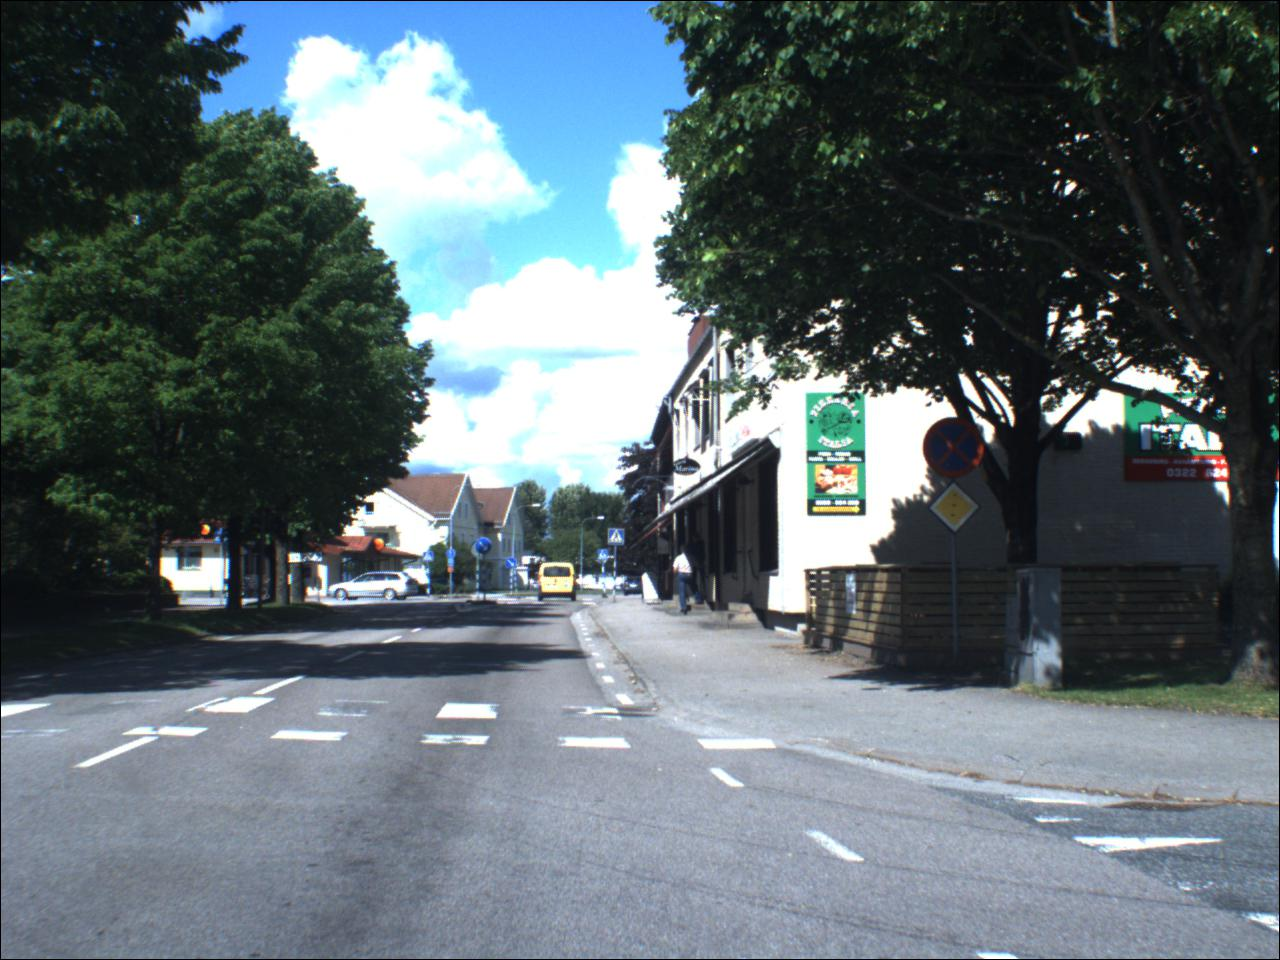NO_STOPPING_NO_STANDING: (923, 417, 986, 481)
PASS_RIGHT_SIDE: (477, 539, 495, 557), (508, 559, 519, 572)
PEDESTRIAN_CROSSING: (610, 531, 628, 548), (601, 550, 611, 563), (426, 553, 436, 564)
PRIORITY_ROAD: (930, 483, 984, 537)
